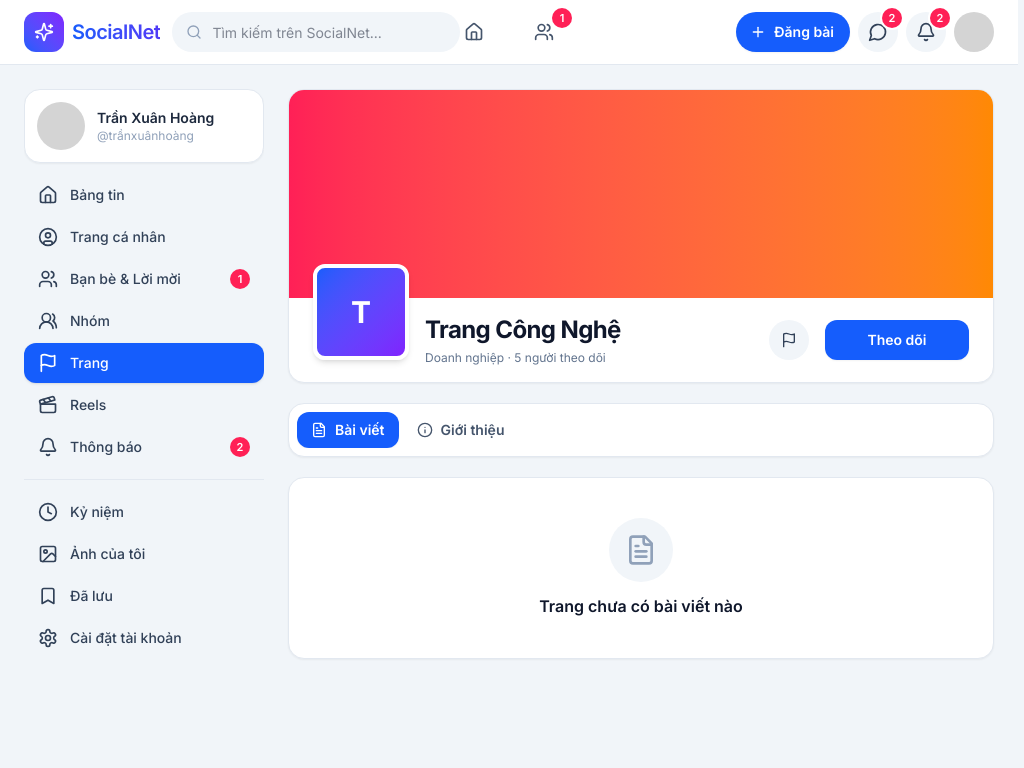
Test: Trang — người xem thường › Theo dõi → "Đang theo dõi" + số tăng + toast; bấm lại → bỏ theo dõi
Step 1. Click the button "Theo dõi" → (897, 340), box [825, 320, 969, 360]
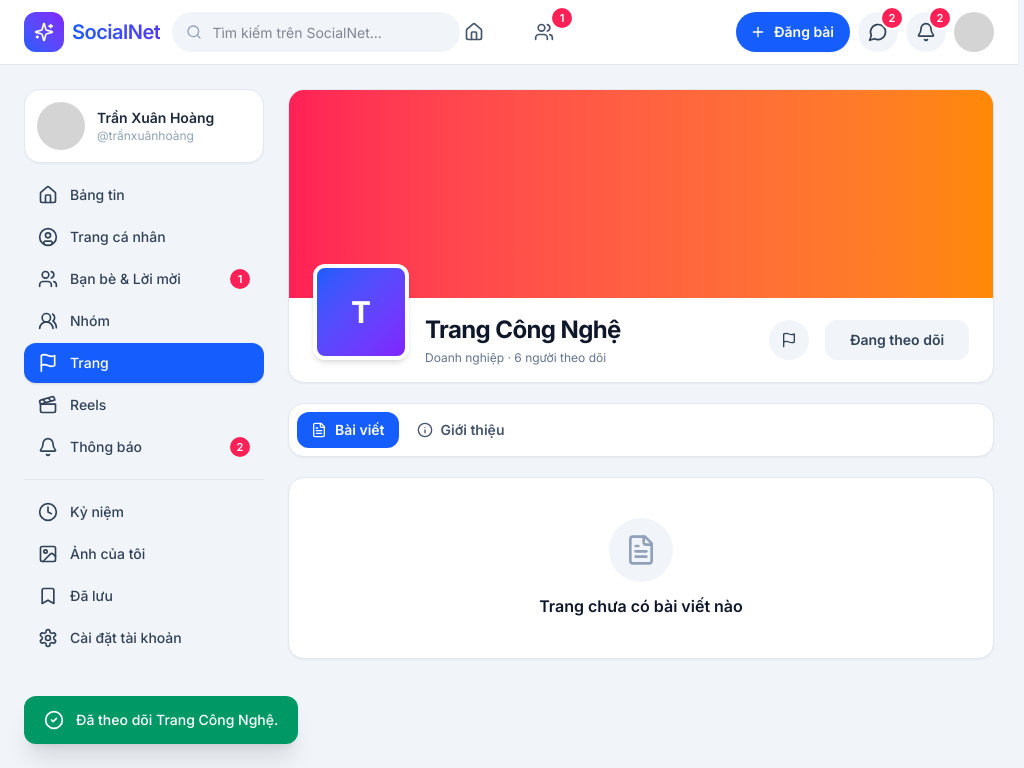
Result: the button "Đang theo dõi" is shown
Result: the text "Đã theo dõi Trang Công Nghệ." is shown at [76, 710, 278, 730]
Result: the element that starts with "Trần Xuân Hoàng" shows "6 người theo dõi"
Step 2. Click the button "Đang theo dõi" → (897, 340), box [825, 320, 969, 360]
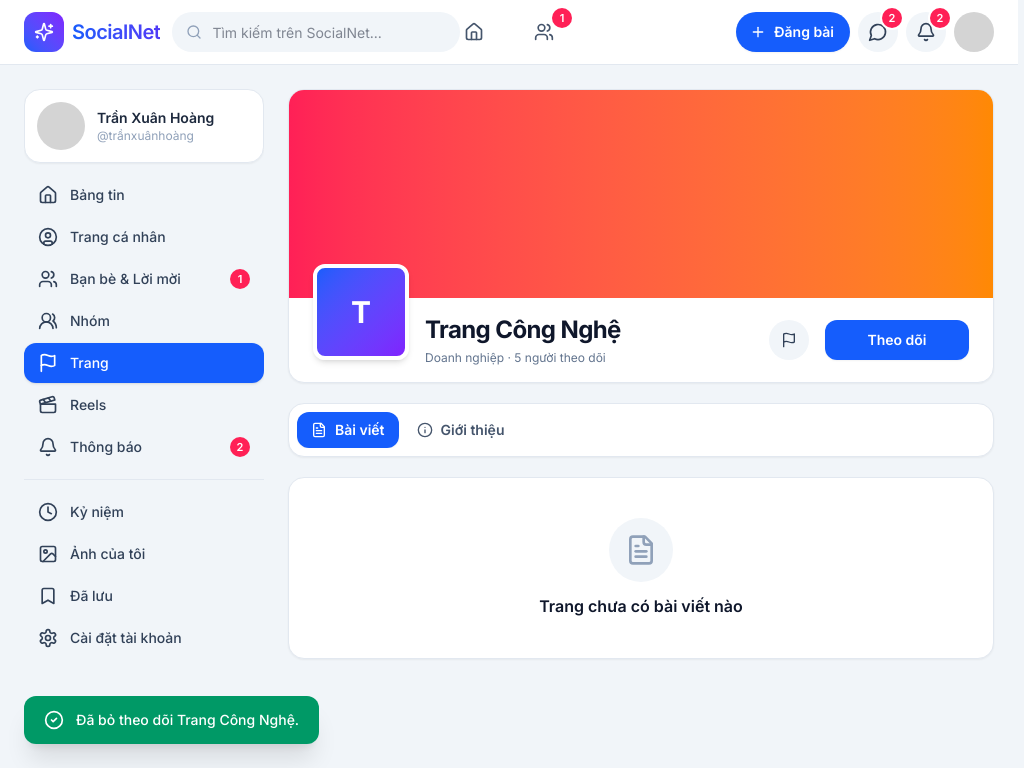
Result: the text "Đã bỏ theo dõi Trang Công Nghệ." is shown at [76, 710, 299, 730]
Result: the element that starts with "Trần Xuân Hoàng" shows "5 người theo dõi"
